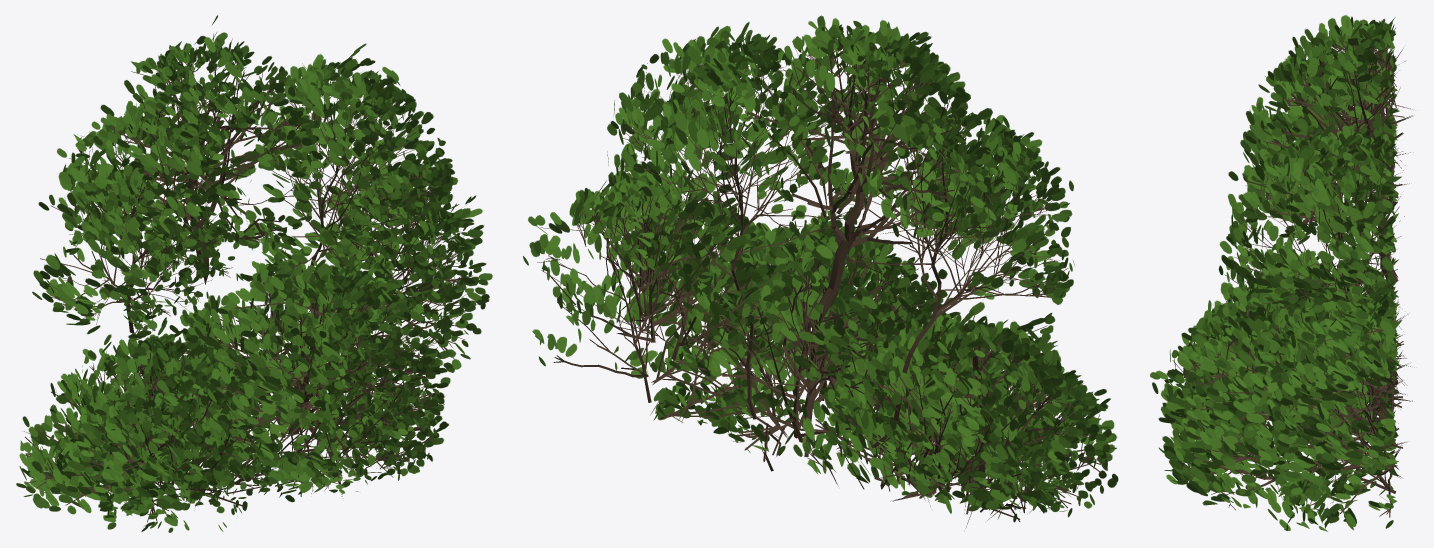
The picture shows the model from 3 angles, left to right: view 1: azimuth 30°, elevation 25°; view 2: azimuth 150°, elevation 25°; view 3: azimuth 270°, elevation 25°; orthographic projection. The views are drawn at different scales.
Parts seen in each view (by area): view 1: oak 01.001_trunk_Mat.001_0.350; view 2: oak 01.001_trunk_Mat.001_0.350; view 3: oak 01.001_trunk_Mat.001_0.350.
Part boxes in pixels (<box>): oak 01.001_trunk_Mat.001_0.350: <box>16,15,492,532</box>; oak 01.001_trunk_Mat.001_0.350: <box>523,15,1118,528</box>; oak 01.001_trunk_Mat.001_0.350: <box>1150,15,1414,531</box>.
Size of the model in its own units: 4.21 by 3.51 by 1.98.
Materials: 2 (1 with a texture image).
